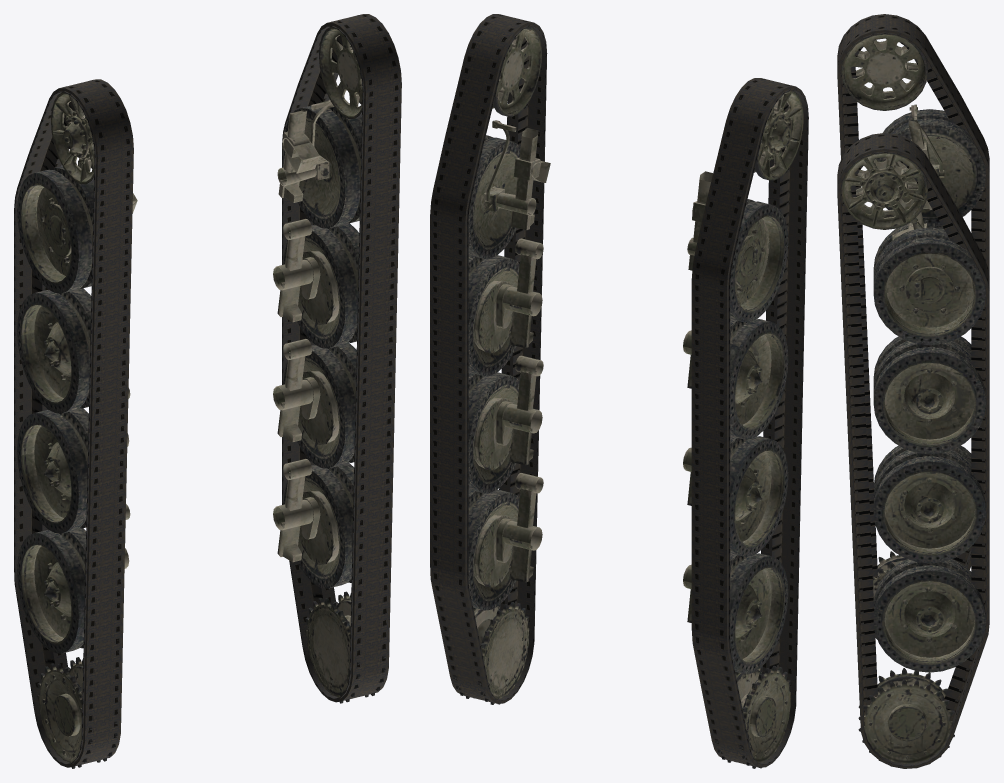
Rendered from Chassis.glb.
3 renders of one model, left to right at view 1: azimuth 30°, elevation 25°; view 2: azimuth 150°, elevation 25°; view 3: azimuth 270°, elevation 25°, orthographic. The views are drawn at different scales.
Parts seen in each view (by area): view 1: set_3_group_0, set_2_group_0, set_0_group_0, set_1_group_0; view 2: set_0_group_0, set_3_group_0, set_1_group_0, set_2_group_0; view 3: set_3_group_0, set_1_group_0, set_2_group_0, set_0_group_0.
Part boxes in pixels (box(x1,y1,x2,y2)): set_3_group_0: box(273, 27, 385, 703); set_2_group_0: box(17, 92, 137, 768); set_0_group_0: box(14, 79, 133, 767); set_1_group_0: box(282, 14, 401, 702); set_0_group_0: box(691, 78, 808, 767); set_3_group_0: box(453, 26, 550, 704); set_1_group_0: box(430, 14, 547, 703); set_2_group_0: box(683, 90, 803, 768); set_3_group_0: box(841, 153, 985, 764); set_1_group_0: box(837, 133, 989, 768); set_2_group_0: box(841, 34, 985, 600); set_0_group_0: box(837, 14, 989, 639).
Size of the model in its own units: 2.46 by 5.06 by 1.12.
4 materials, 4 textured.
